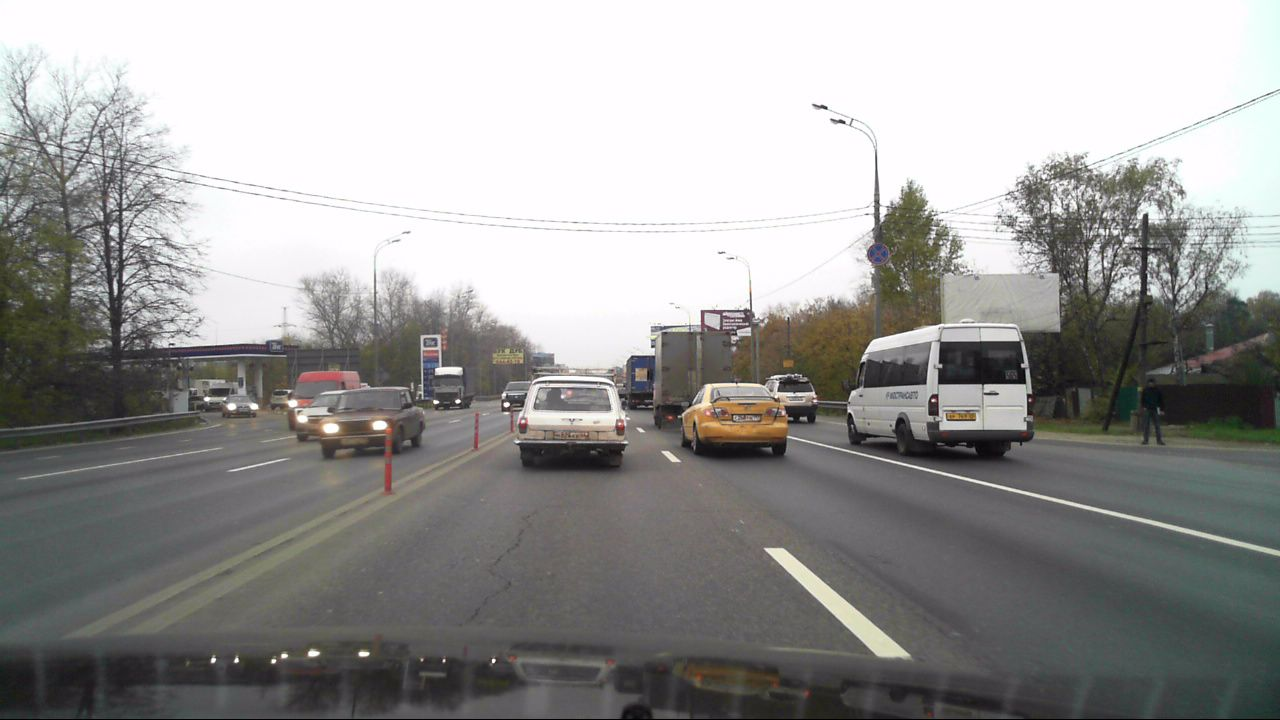No Parking: (866, 243, 889, 265)
